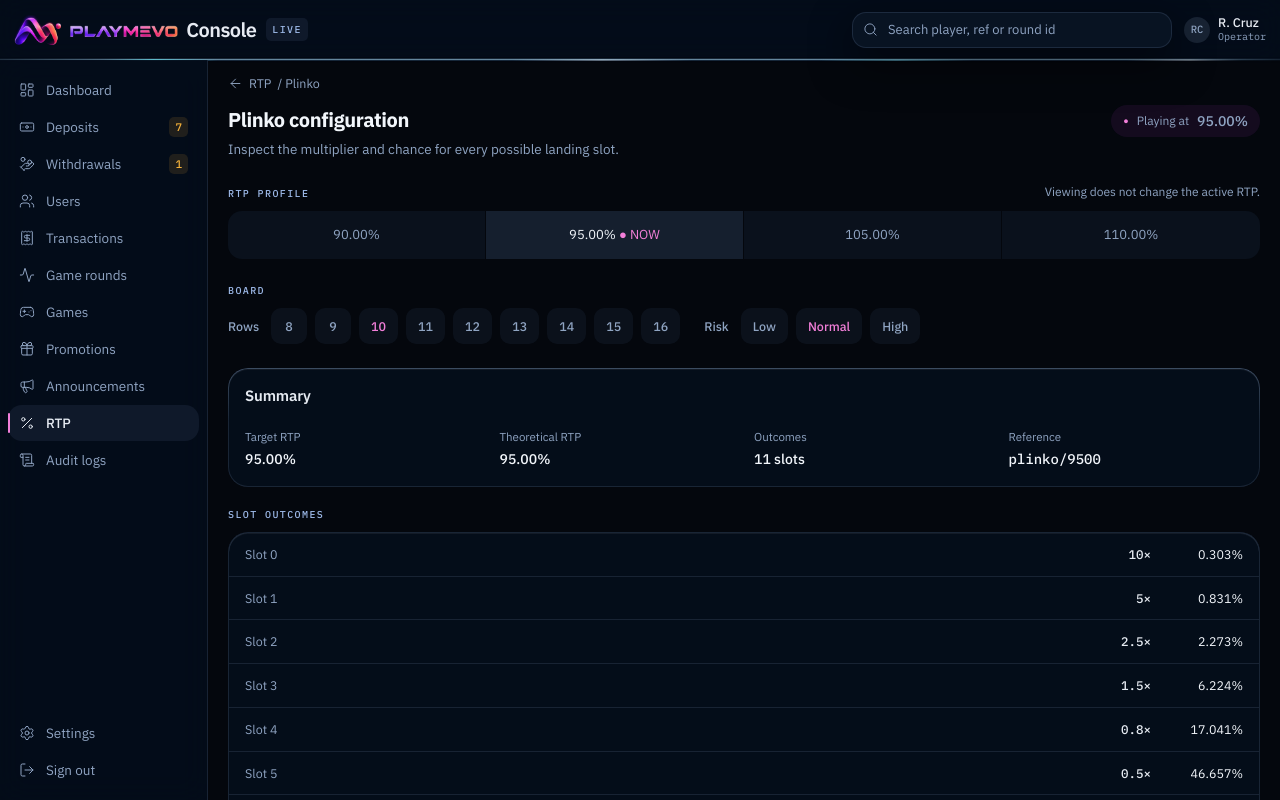
Plinko RTP configuration › inspects profiles and boards without changing the active RTP
Check: the heading "Plinko configuration" is shown, box [228,106,409,133]
Check: the message named "Current RTP" shows "Playing at 95.00%", box [1111,105,1260,137]
Click the button "105.00%" at (873, 235), box [744,211,1002,259]
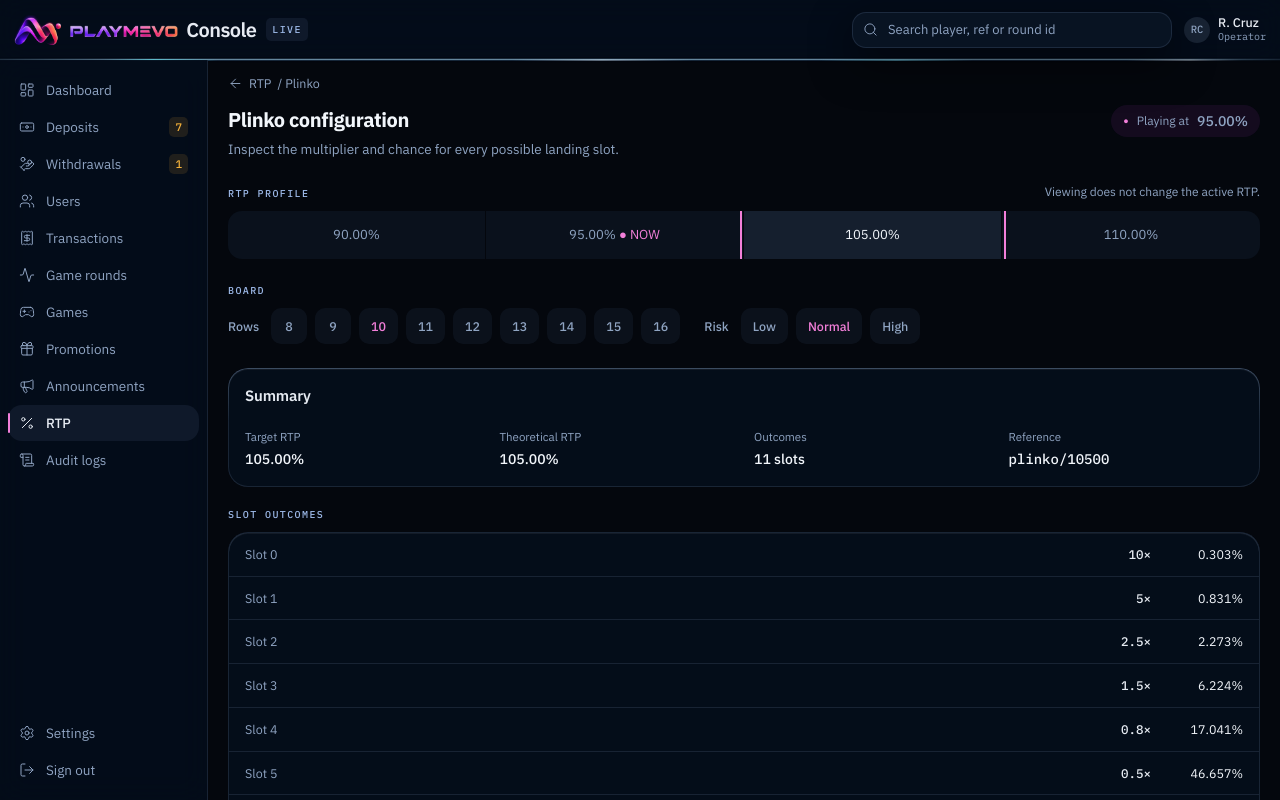
Check: the message named "Current RTP" shows "Playing at 95.00%", box [1111,105,1260,137]
Check: the text "plinko/10500" is shown, box [1008,450,1109,468]
Click the button "9" at (333, 326), box [315,308,351,344]
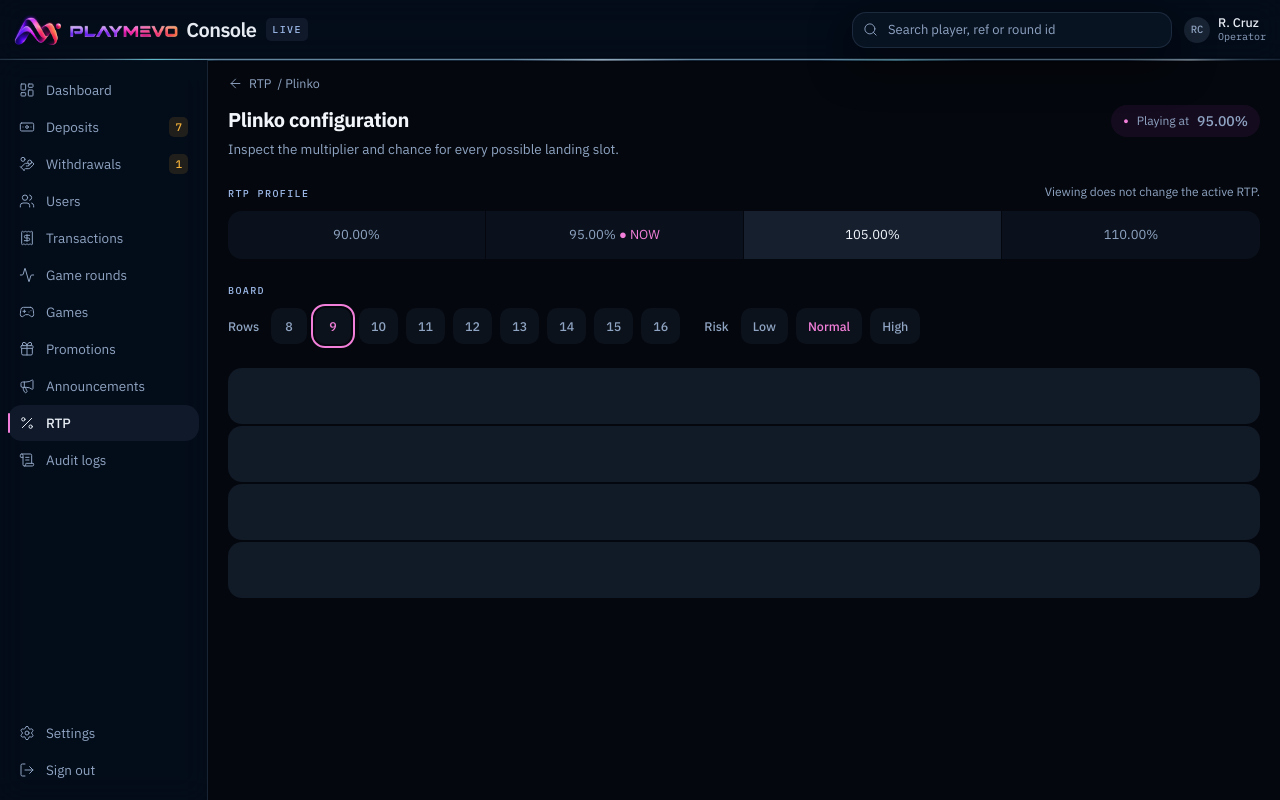
Click the button "High" at (895, 326), box [870,308,920,344]
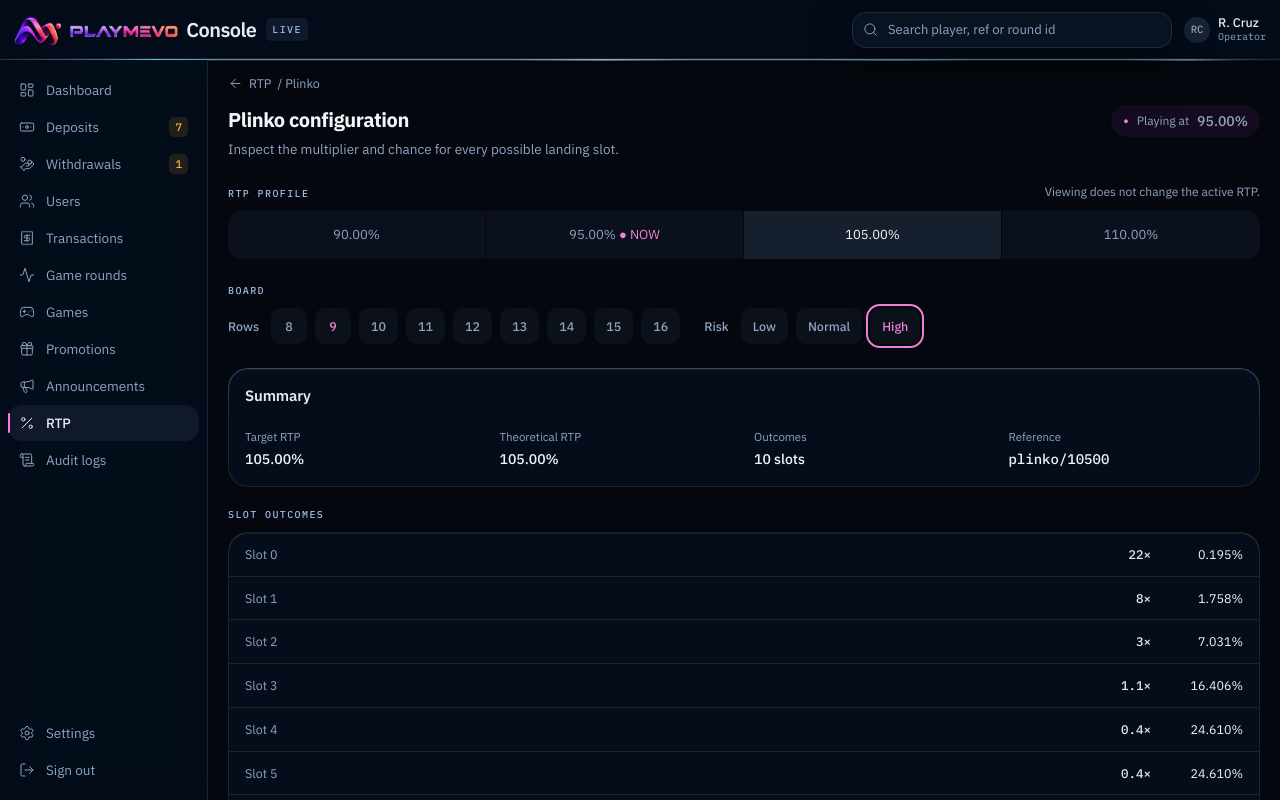
Check: the text "10 slots" is shown, box [754,450,805,468]
